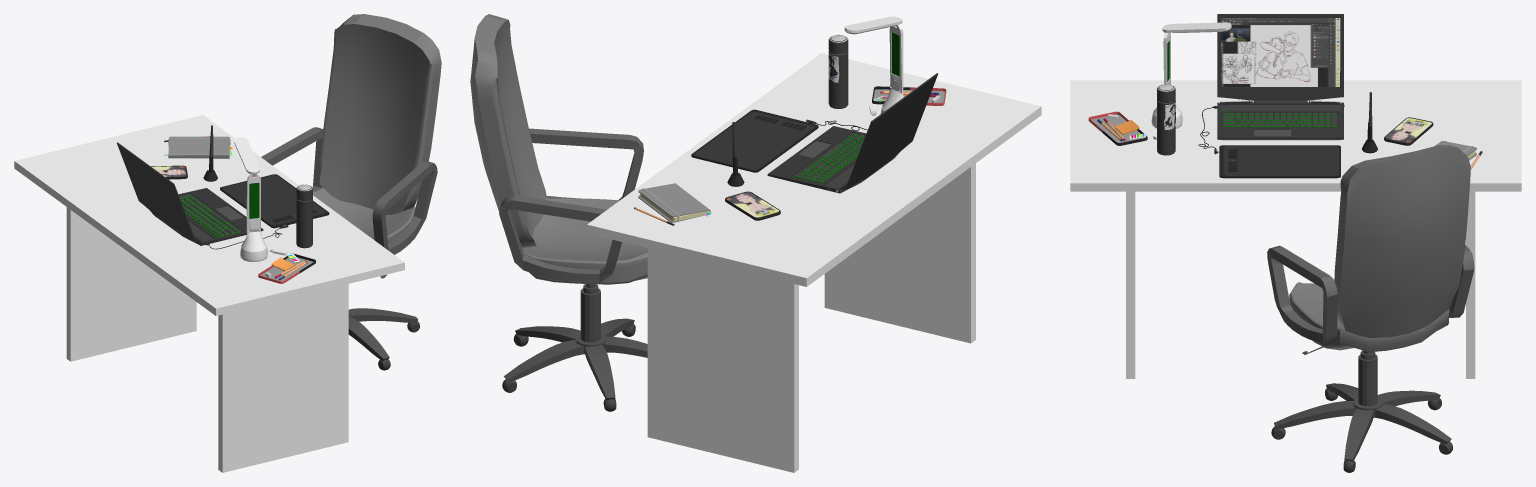
Rendered from workspace.glb.
3 renders of one model, left to right at view 1: azimuth 30°, elevation 25°; view 2: azimuth 150°, elevation 25°; view 3: azimuth 270°, elevation 25°, orthographic. The views are drawn at different scales.
Parts seen in each view (by area): view 1: polySurface105, ffd3Lattice1, polySurface104, polySurface103, polySurface100, pasted__pCube11, polySurface107, polySurface15, pPlane6, polySurface34, bottle_pCylinder3, case_pCube1; view 2: polySurface105, polySurface103, ffd3Lattice1, polySurface104, polySurface100, polySurface107, polySurface15, pasted__pCube11, pPlane6, bottle_pCylinder3, polySurface34, phone_pCube15 (+1 smaller); view 3: ffd3Lattice1, polySurface105, pPlane7, polySurface15, polySurface107, polySurface100, polySurface104, polySurface34, polySurface103, bottle_pCylinder3, pasted__pCube11, phone_pCube15 (+2 smaller).
Boxes of the visible parts, x1,y1,x2,y2 form: polySurface105: [14, 115, 404, 315]; ffd3Lattice1: [261, 14, 441, 370]; polySurface104: [218, 284, 348, 472]; polySurface103: [66, 207, 196, 361]; polySurface100: [117, 142, 196, 242]; pasted__pCube11: [234, 137, 267, 261]; polySurface107: [222, 175, 325, 225]; polySurface15: [150, 188, 263, 245]; pPlane6: [164, 136, 232, 158]; polySurface34: [179, 194, 240, 237]; bottle_pCylinder3: [296, 184, 312, 248]; case_pCube1: [258, 253, 315, 283]; polySurface105: [587, 53, 1041, 286]; polySurface103: [647, 248, 798, 472]; ffd3Lattice1: [470, 14, 647, 411]; polySurface104: [824, 163, 975, 343]; polySurface100: [845, 73, 937, 189]; polySurface107: [694, 111, 814, 170]; polySurface15: [767, 126, 900, 193]; pasted__pCube11: [844, 16, 903, 113]; pPlane6: [638, 183, 711, 222]; bottle_pCylinder3: [828, 34, 848, 108]; polySurface34: [794, 132, 865, 182]; phone_pCube15: [725, 191, 780, 220]; ffd3Lattice1: [1267, 145, 1474, 472]; polySurface105: [1070, 80, 1521, 191]; pPlane7: [1221, 18, 1340, 86]; polySurface15: [1217, 101, 1343, 139]; polySurface107: [1223, 146, 1338, 175]; polySurface100: [1217, 14, 1343, 100]; polySurface104: [1126, 191, 1135, 378]; polySurface34: [1223, 112, 1336, 126]; polySurface103: [1466, 191, 1475, 378]; bottle_pCylinder3: [1157, 84, 1176, 155]; pasted__pCube11: [1151, 22, 1231, 128]; phone_pCube15: [1384, 117, 1433, 145].
Bounding box in the file's own units: 11.63 × 9.19 × 11.63.
66 materials, 3 textured.
